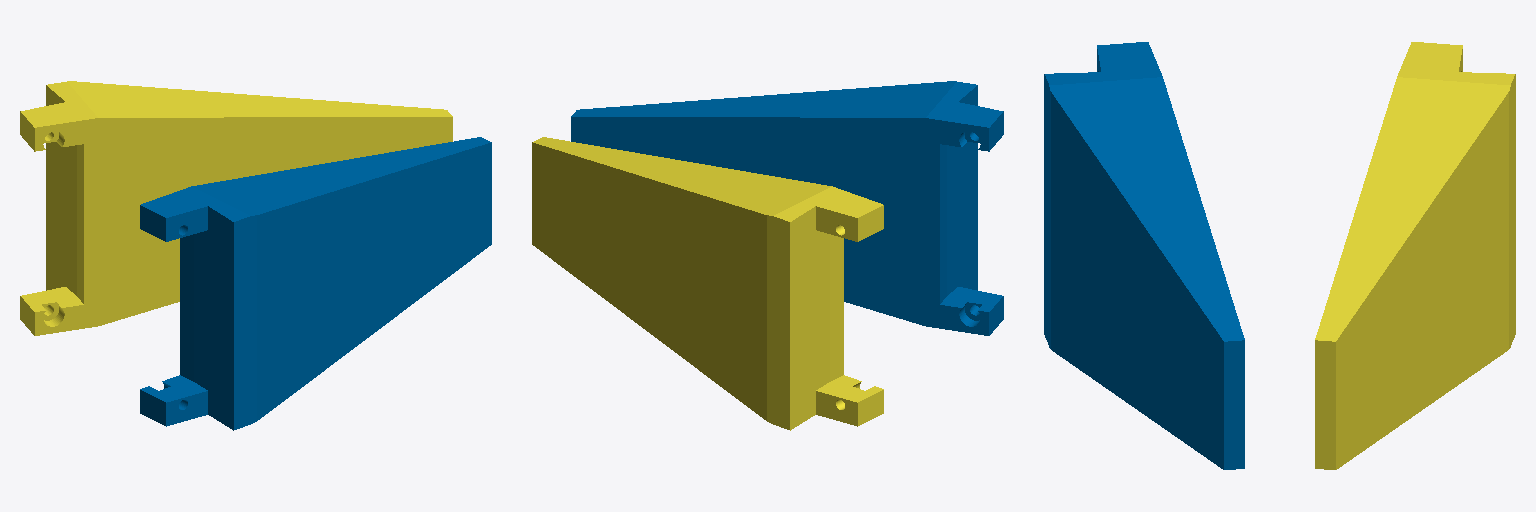
robot.urdf — vx300s:
<?xml version="1.0" ?>
<!-- =================================================================================== -->
<!-- |    This document was autogenerated by xacro from vx300s.urdf.xacro              | -->
<!-- |    EDITING THIS FILE BY HAND IS NOT RECOMMENDED                                 | -->
<!-- =================================================================================== -->
<robot name="vx300s">
  <!-- <material name="interbotix_black">
    <texture filename="meshes/interbotix_black.png"/>
  </material> -->
  <link name="vx300s/base_link">
    <visual>
      <origin rpy="0 0 1.5707963267948966" xyz="0 0 0"/>
      <geometry>
        <mesh filename="meshes/vx300s_v2_meshes/vx300s_1_base.stl" scale="0.001 0.001 0.001"/>
      </geometry>
      <!-- <material name="interbotix_black"/> -->
    </visual>
    <collision>
      <origin rpy="0 0 1.5707963267948966" xyz="0 0 0"/>
      <geometry>
        <mesh filename="meshes/vx300s_v2_meshes/vx300s_1_base.stl" scale="0.001 0.001 0.001"/>
      </geometry>
    </collision>
    <inertial>
      <origin rpy="0 0 1.5707963267948966" xyz="-0.0534774000 -0.0005625750 0.0205961000"/>
      <mass value="0.969034"/>
      <inertia ixx="0.0060240000" ixy="0.0000471300" ixz="0.0000038510" iyy="0.0017000000" iyz="-0.0000841500" izz="0.0071620000"/>
    </inertial>
  </link>
  <joint name="waist" type="revolute">
    <axis xyz="0 0 1"/>
    <limit effort="10" lower="-3.141582653589793" upper="3.141582653589793" velocity="3.141592653589793"/>
    <origin rpy="0 0 0" xyz="0 0 0.079"/>
    <parent link="vx300s/base_link"/>
    <child link="vx300s/shoulder_link"/>
    <dynamics friction="0.1"/>
  </joint>

  <link name="vx300s/shoulder_link">
    <visual>
      <origin rpy="0 0 1.5707963267948966" xyz="0 0 -0.003"/>
      <geometry>
        <mesh filename="meshes/vx300s_v2_meshes/vx300s_2_shoulder.stl" scale="0.001 0.001 0.001"/>
      </geometry>
      <!-- <material name="interbotix_black"/> -->
    </visual>
    <collision>
      <origin rpy="0 0 1.5707963267948966" xyz="0 0 -0.003"/>
      <geometry>
        <mesh filename="meshes/vx300s_v2_meshes/vx300s_2_shoulder.stl" scale="0.001 0.001 0.001"/>
      </geometry>
    </collision>
    <inertial>
      <origin rpy="0 0 1.5707963267948966" xyz="0.0002592330 -0.0000033552 0.0116129000"/>
      <mass value="0.798614"/>
      <inertia ixx="0.0009388000" ixy="-0.0000000010" ixz="-0.0000000191" iyy="0.0011380000" iyz="0.0000059568" izz="0.0012010000"/>
    </inertial>
  </link>
  <joint name="shoulder" type="revolute">
    <axis xyz="0 1 0"/>
    <limit effort="20" lower="-1.8500490071139892" upper="1.2566370614359172" velocity="3.141592653589793"/>
    <origin rpy="0 0 0" xyz="0 0 0.04805"/>
    <parent link="vx300s/shoulder_link"/>
    <child link="vx300s/upper_arm_link"/>
    <dynamics friction="0.1"/>
  </joint>

  <link name="vx300s/upper_arm_link">
    <visual>
      <origin rpy="0 0 1.5707963267948966" xyz="0 0 0"/>
      <geometry>
        <mesh filename="meshes/vx300s_v2_meshes/vx300s_3_upper_arm.stl" scale="0.001 0.001 0.001"/>
      </geometry>
      <!-- <material name="interbotix_black"/> -->
    </visual>
    <collision>
      <origin rpy="0 0 1.5707963267948966" xyz="0 0 0"/>
      <geometry>
        <mesh filename="meshes/vx300s_v2_meshes/vx300s_3_upper_arm.stl" scale="0.001 0.001 0.001"/>
      </geometry>
    </collision>
    <inertial>
      <origin rpy="0 0 1.5707963267948966" xyz="0.0206949000 0.0000000004 0.2264590000"/>
      <mass value="0.792592"/>
      <inertia ixx="0.0089250000" ixy="0.0000000000" ixz="0.0000000000" iyy="0.0089370000" iyz="0.0012010000" izz="0.0009357000"/>
    </inertial>
  </link>
  <joint name="elbow" type="revolute">
    <axis xyz="0 1 0"/>
    <limit effort="15" lower="-1.7627825445142729" upper="1.6057029118347832" velocity="3.141592653589793"/>
    <origin rpy="0 0 0" xyz="0.05955 0 0.3"/>
    <parent link="vx300s/upper_arm_link"/>
    <child link="vx300s/upper_forearm_link"/>
    <dynamics friction="0.1"/>
  </joint>

  <link name="vx300s/upper_forearm_link">
    <visual>
      <origin rpy="0 0 0" xyz="0 0 0"/>
      <geometry>
        <mesh filename="meshes/vx300s_v2_meshes/vx300s_4_upper_forearm.stl" scale="0.001 0.001 0.001"/>
      </geometry>
      <!-- <material name="interbotix_black"/> -->
    </visual>
    <collision>
      <origin rpy="0 0 0" xyz="0 0 0"/>
      <geometry>
        <mesh filename="meshes/vx300s_v2_meshes/vx300s_4_upper_forearm.stl" scale="0.001 0.001 0.001"/>
      </geometry>
    </collision>
    <inertial>
      <origin rpy="0 0 0" xyz="0.105723 0 0"/>
      <mass value="0.622228"/>
      <inertia ixx="0.0001524000" ixy="-0.0000188300" ixz="-0.0000084064" iyy="0.0013420000" iyz="0.0000012564" izz="0.0014410000"/>
    </inertial>
  </link>
  <joint name="forearm_roll" type="revolute">
    <axis xyz="1 0 0"/>
    <limit effort="2" lower="-3.141582653589793" upper="3.141582653589793" velocity="3.141592653589793"/>
    <origin rpy="0 0 0" xyz="0.2 0 0"/>
    <parent link="vx300s/upper_forearm_link"/>
    <child link="vx300s/lower_forearm_link"/>
    <dynamics friction="0.1"/>
  </joint>

  <link name="vx300s/lower_forearm_link">
    <visual>
      <origin rpy="3.141592653589793 0 0" xyz="0 0 0"/>
      <geometry>
        <mesh filename="meshes/vx300s_v2_meshes/vx300s_5_lower_forearm.stl" scale="0.001 0.001 0.001"/>
      </geometry>
      <material name="interbotix_black"/>
    </visual>
    <collision>
      <origin rpy="3.141592653589793 0 0" xyz="0 0 0"/>
      <geometry>
        <mesh filename="meshes/vx300s_v2_meshes/vx300s_5_lower_forearm.stl" scale="0.001 0.001 0.001"/>
      </geometry>
    </collision>
    <inertial>
      <origin rpy="3.141592653589793 0 0" xyz="0.0513477000 0.0068046200 0"/>
      <mass value="0.414823"/>
      <inertia ixx="0.0001753000" ixy="-0.0000852800" ixz="0" iyy="0.0005269000" iyz="0" izz="0.0005911000"/>
    </inertial>
  </link>
  <joint name="wrist_angle" type="revolute">
    <axis xyz="0 1 0"/>
    <limit effort="5" lower="-1.8675022996339325" upper="2.234021442552742" velocity="3.141592653589793"/>
    <origin rpy="0 0 0" xyz="0.1 0 0"/>
    <parent link="vx300s/lower_forearm_link"/>
    <child link="vx300s/wrist_link"/>
    <dynamics friction="0.1"/>
  </joint>

  <link name="vx300s/wrist_link">
    <visual>
      <origin rpy="0 0 1.5707963267948966" xyz="0 0 0"/>
      <geometry>
        <mesh filename="meshes/vx300s_v2_meshes/vx300s_6_wrist.stl" scale="0.001 0.001 0.001"/>
      </geometry>
      <!-- <material name="interbotix_black"/> -->
    </visual>
    <collision>
      <origin rpy="0 0 1.5707963267948966" xyz="0 0 0"/>
      <geometry>
        <mesh filename="meshes/vx300s_v2_meshes/vx300s_6_wrist.stl" scale="0.001 0.001 0.001"/>
      </geometry>
    </collision>
    <inertial>
      <origin rpy="0 0 1.5707963267948966" xyz="0.0467430000 -0.0000076652 0.0105650000"/>
      <mass value="0.115395"/>
      <inertia ixx="0.0000463100" ixy="0.0000000195" ixz="0.0000000023" iyy="0.0000451400" iyz="0.0000042002" izz="0.0000527000"/>
    </inertial>
  </link>
  <joint name="wrist_rotate" type="revolute">
    <axis xyz="1 0 0"/>
    <limit effort="1" lower="-3.141582653589793" upper="3.141582653589793" velocity="3.141592653589793"/>
    <origin rpy="0 0 0" xyz="0.069744 0 0"/>
    <parent link="vx300s/wrist_link"/>
    <child link="vx300s/gripper_link"/>
    <dynamics friction="0.1"/>
  </joint>

  <link name="vx300s/gripper_link">
    <visual>
      <origin rpy="0 0 1.5707963267948966" xyz="-0.02 0 0"/>
      <geometry>
        <mesh filename="meshes/vx300s_v2_meshes/vx300s_7_gripper.stl" scale="0.001 0.001 0.001"/>
      </geometry>
      <!-- <material name="interbotix_black"/> -->
    </visual>
    <collision>
      <origin rpy="0 0 1.5707963267948966" xyz="-0.02 0 0"/>
      <geometry>
        <mesh filename="meshes/vx300s_v2_meshes/vx300s_7_gripper.stl" scale="0.001 0.001 0.001"/>
      </geometry>
    </collision>
    <inertial>
      <origin rpy="0 0 1.5707963267948966" xyz="0.0230010000 0.0000000000 0.0115230000"/>
      <mass value="0.097666"/>
      <inertia ixx="0.0000326800" ixy="0.0000000000" ixz="0.0000000000" iyy="0.0000243600" iyz="0.0000002785" izz="0.0000211900"/>
    </inertial>
  </link>
  <joint name="ee_arm" type="fixed">
    <axis xyz="1 0 0"/>
    <origin rpy="0 0 0" xyz="0.042825 0 0"/>
    <parent link="vx300s/gripper_link"/>
    <child link="vx300s/ee_arm_link"/>
  </joint>
  <link name="vx300s/ee_arm_link">
    <inertial>
      <mass value="0.001"/>
      <inertia ixx="0.0001" ixy="0" ixz="0" iyy="0.0001" iyz="0" izz="0.0001"/>
    </inertial>
  </link>
  <joint name="gripper" type="fixed">
    <axis xyz="1 0 0"/>
    <limit effort="1" velocity="3.141592653589793"/>
    <origin rpy="0 0 0" xyz="0.005675 0 0"/>
    <parent link="vx300s/ee_arm_link"/>
    <child link="vx300s/gripper_prop_link"/>
    <dynamics friction="0.1"/>
  </joint>

  <link name="vx300s/gripper_prop_link">
    <visual>
      <origin rpy="0 0 1.5707963267948966" xyz="-0.0685 0 0"/>
      <geometry>
        <mesh filename="meshes/vx300s_v2_meshes/vx300s_8_gripper_prop.stl" scale="0.001 0.001 0.001"/>
      </geometry>
      <!-- <material name="interbotix_black"/> -->
    </visual>
    <collision>
      <origin rpy="0 0 1.5707963267948966" xyz="-0.0685 0 0"/>
      <geometry>
        <mesh filename="meshes/vx300s_v2_meshes/vx300s_8_gripper_prop.stl" scale="0.001 0.001 0.001"/>
      </geometry>
    </collision>
    <inertial>
      <origin rpy="0 0 1.5707963267948966" xyz="0.0023780000 0.0000000285 0.0000000000"/>
      <mass value="0.008009"/>
      <inertia ixx="0.0000020386" ixy="0.0000000000" ixz="0.0000006559" iyy="0.0000042979" iyz="0.0000000000" izz="0.0000023796"/>
    </inertial>
  </link>
  <!-- If the AR tag is being used, then add the AR tag mount -->
  <!-- If the gripper bar is being used, then also add the gripper bar -->
  <joint name="gripper_bar" type="fixed">
    <axis xyz="1 0 0"/>
    <origin rpy="0 0 0" xyz="0 0 0"/>
    <parent link="vx300s/ee_arm_link"/>
    <child link="vx300s/gripper_bar_link"/>
  </joint>
  <link name="vx300s/gripper_bar_link">
    <visual>
      <origin rpy="0 0 1.5707963267948966" xyz="-0.063 0 0"/>
      <geometry>
        <mesh filename="meshes/vx300s_v2_meshes/vx300s_9_gripper_bar.stl" scale="0.001 0.001 0.001"/>
      </geometry>
      <!-- <material name="interbotix_black"/> -->
    </visual>
    <collision>
      <origin rpy="0 0 1.5707963267948966" xyz="-0.063 0 0"/>
      <geometry>
        <mesh filename="meshes/vx300s_v2_meshes/vx300s_9_gripper_bar.stl" scale="0.001 0.001 0.001"/>
      </geometry>
    </collision>
    <inertial>
      <origin rpy="0 0 1.5707963267948966" xyz="0.0067940000 -0.0000004272 -0.0007760000"/>
      <mass value="0.150986"/>
      <inertia ixx="0.0000789500" ixy="-0.0000000012" ixz="0.0000001341" iyy="0.0003283000" iyz="0.0000017465" izz="0.0003095000"/>
    </inertial>
  </link>
  <joint name="ee_bar" type="fixed">
    <axis xyz="1 0 0"/>
    <origin rpy="0 0 0" xyz="0.025875 0 0"/>
    <parent link="vx300s/gripper_bar_link"/>
    <child link="vx300s/fingers_link"/>
  </joint>
  <link name="vx300s/fingers_link">
    <inertial>
      <mass value="0.001"/>
      <inertia ixx="0.0001" ixy="0" ixz="0" iyy="0.0001" iyz="0" izz="0.0001"/>
    </inertial>
  </link>
  <!-- If the gripper fingers are being used, add those as well -->
  <joint name="left_finger" type="prismatic">
    <axis xyz="0 1 0"/>
    <limit effort="5" lower="0.021" upper="0.057" velocity="1"/>
    <origin rpy="0 0 0" xyz="0 0 0"/>
    <parent link="vx300s/fingers_link"/>
    <child link="vx300s/left_finger_link"/>
    <dynamics friction="0.1"/>
  </joint>

  <link name="vx300s/left_finger_link">
    <visual>
      <origin rpy="3.141592653589793  -1.5707963267948966 -0.1745" xyz="-0.003 0.013 -0.0305"/>
      <geometry>
        <mesh filename="meshes/vx300s_v2_meshes/vx300s_10_gripper_finger.stl" scale="0.001 0.001 0.001"/>
      </geometry>
      <!-- <material name="interbotix_black"/> -->
    </visual>
    <collision>
      <origin rpy="3.141592653589793  -1.5707963267948966 -0.1745" xyz="-0.003 0.013 -0.0305"/>
      <geometry>
        <mesh filename="meshes/vx300s_v2_meshes/vx300s_10_gripper_finger.stl" scale="0.001 0.001 0.001"/>
      </geometry>
    </collision>
    <inertial>
      <origin rpy="3.141592653589793  -1.5707963267948966 -0.1745" xyz="-0.003 0.013 -0.0305"/>
      <mass value="0.034796"/>
      <inertia ixx="0.0000243300" ixy="-0.0000024004" ixz="0.0000000000" iyy="0.0000125500" iyz="0.0000000000" izz="0.0000141700"/>
    </inertial>
  </link>

  <joint name="right_finger" type="prismatic">
    <axis xyz="0 1 0"/>
    <limit effort="5" lower="-0.057" upper="-0.021" velocity="1"/>
    <origin rpy="0 0 0" xyz="0 0 0"/>
    <parent link="vx300s/fingers_link"/>
    <child link="vx300s/right_finger_link"/>
    <dynamics friction="0.1"/>
    <!-- <mimic joint="left_finger" multiplier="-1" offset="0"/> -->
  </joint>

  <link name="vx300s/right_finger_link">
    <visual>
      <origin rpy="0.0 1.5707963267948966 0.1745 " xyz="-0.003 -0.013 0.0305"/>
      <geometry>
        <mesh filename="meshes/vx300s_v2_meshes/vx300s_10_gripper_finger.stl" scale="0.001 0.001 0.001"/>
      </geometry>
      <!-- <material name="interbotix_black"/> -->
    </visual>
    <collision>
      <origin rpy="0.0 1.5707963267948966 0.1745 " xyz="-0.003 -0.013 0.0305"/>
      <geometry>
        <mesh filename="meshes/vx300s_v2_meshes/vx300s_10_gripper_finger.stl" scale="0.001 0.001 0.001"/>
      </geometry>
    </collision>
    <inertial>
      <origin rpy="0.0 1.5707963267948966 0.1745 " xyz="-0.003 -0.013 0.0305"/>
      <mass value="0.034796"/>
      <inertia ixx="0.0000243300" ixy="0.0000024001" ixz="0.0000000000" iyy="0.0000125500" iyz="0.0000000000" izz="0.0000141700"/>
    </inertial>
  </link>
  <joint name="ee_gripper" type="fixed">
    <axis xyz="1 0 0"/>
    <origin rpy="0 0 0" xyz="0.0385 0 0"/>
    <parent link="vx300s/fingers_link"/>
    <child link="vx300s/ee_gripper_link"/>
  </joint>
  <link name="vx300s/ee_gripper_link">
    <inertial>
      <mass value="0.001"/>
      <inertia ixx="0.0001" ixy="0" ixz="0" iyy="0.0001" iyz="0" izz="0.0001"/>
    </inertial>
  </link>
</robot>

--- What the picture shows (computed from the rendered views, not written in the file) ---
Views: 3 orthographic renders of the robot side by side, from view 1: azimuth 30°, elevation 25°; view 2: azimuth 150°, elevation 25°; view 3: azimuth 270°, elevation 25°.
Model vx300s with 14 links and 13 joints (6 revolute, 2 prismatic, 5 fixed), rooted at vx300s/base_link, posed all joints at 0 but 2 set to mid-range because 0 is outside their limits (left_finger = 0.039, right_finger = -0.039).
Visible links, largest first — view 1: vx300s/right_finger_link, vx300s/left_finger_link; view 2: vx300s/left_finger_link, vx300s/right_finger_link; view 3: vx300s/left_finger_link, vx300s/right_finger_link.
Link boxes in pixels (left/top/right/bottom): vx300s/right_finger_link: left=140, top=137, right=491, bottom=430; vx300s/left_finger_link: left=20, top=81, right=452, bottom=335; vx300s/left_finger_link: left=532, top=137, right=883, bottom=430; vx300s/right_finger_link: left=571, top=81, right=1003, bottom=335; vx300s/left_finger_link: left=1315, top=42, right=1515, bottom=469; vx300s/right_finger_link: left=1044, top=42, right=1244, bottom=469.
Bounding box of the posed robot: 0.117 × 0.0996 × 0.061 m (x, y, z).
2 mesh visuals loaded from 10 distinct referenced files (1 binary STL); not drawn: 9 (reference not matched to a file when rendering).